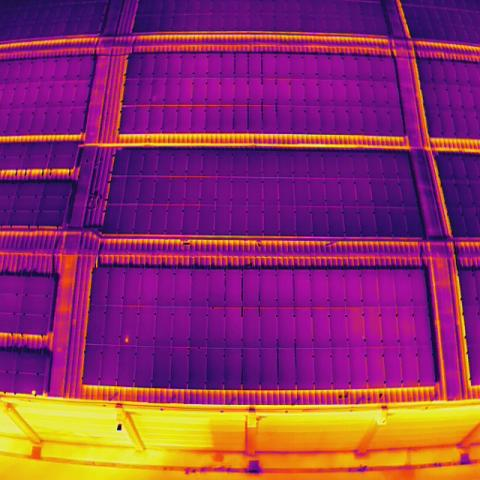fault: (30, 389, 38, 396), (124, 336, 130, 345)
